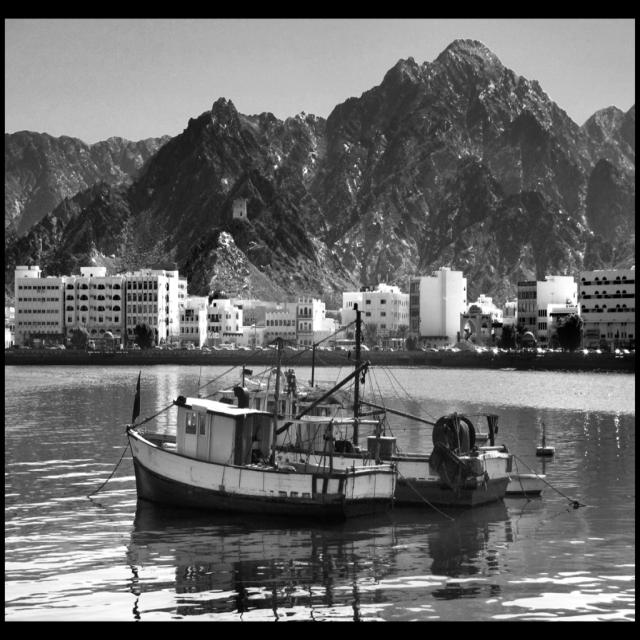Boat: (115, 332, 451, 533)
